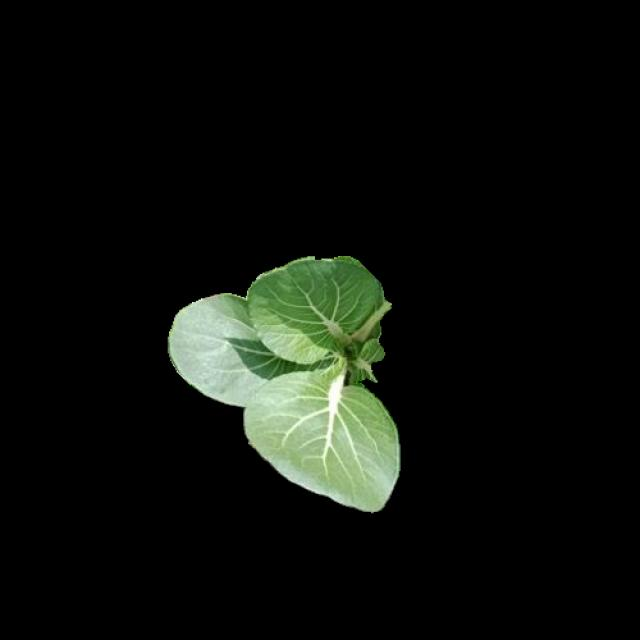healthy: (170, 270, 394, 507)
not-mature: (170, 258, 397, 510)
